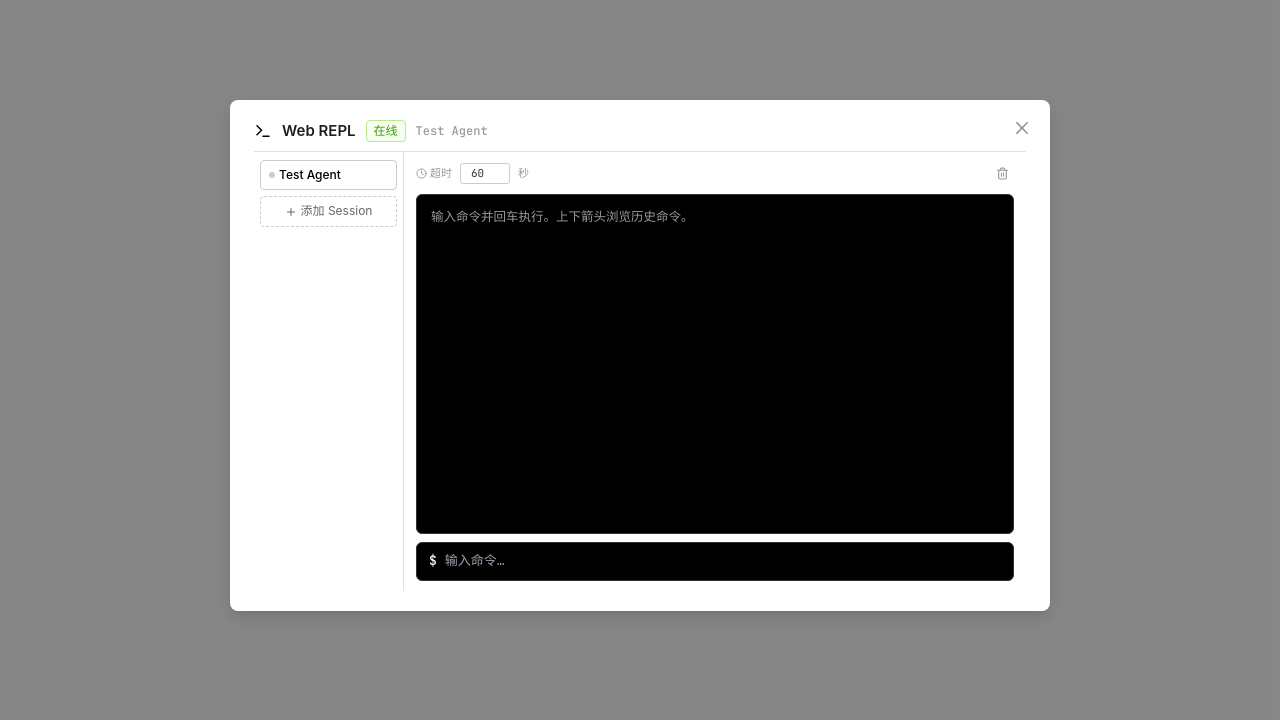
Test: ReplModal Tab 补全 › 切换 session 后关闭候选列表
Type "py" into the field with placeholder "输入命令…" at (723, 561), box x1=445 y1=551 x2=1001 y2=572
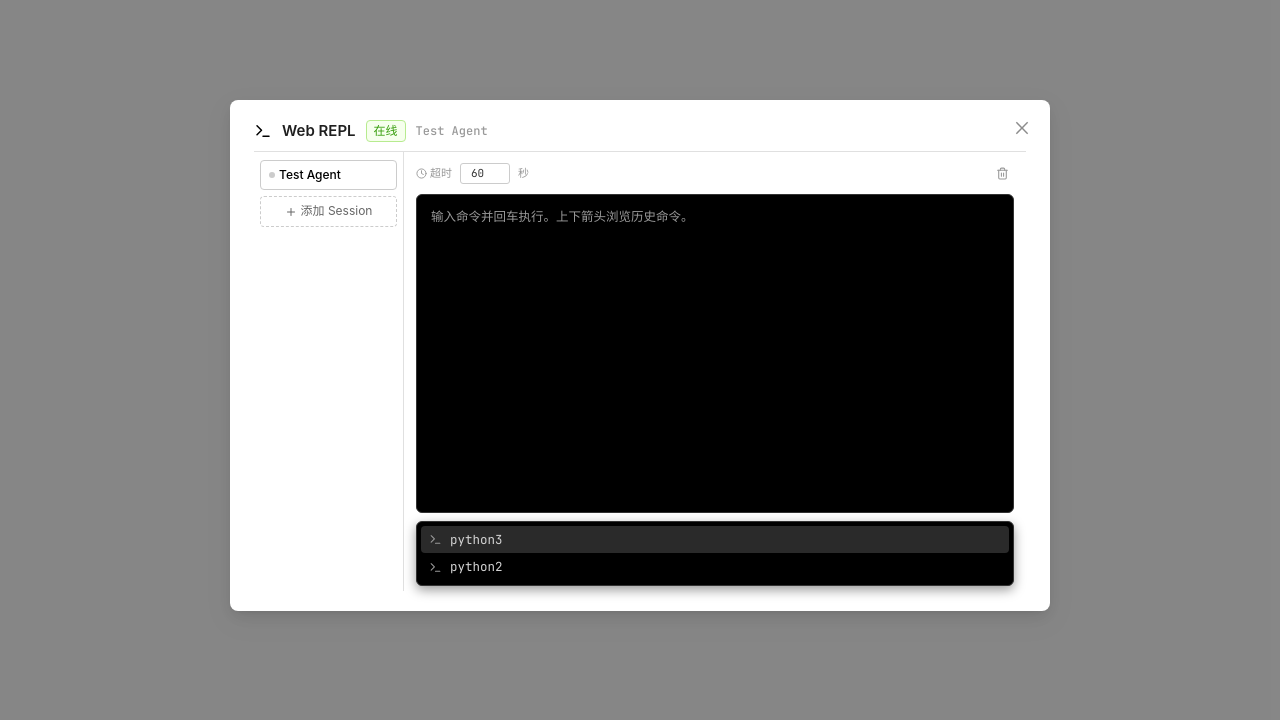
Now the text "python3" is shown, box x1=450 y1=530 x2=502 y2=549
// 点击"添加 Session"切换活动会话
Click the button "添加 Session" at (328, 212), box x1=260 y1=196 x2=397 y2=227
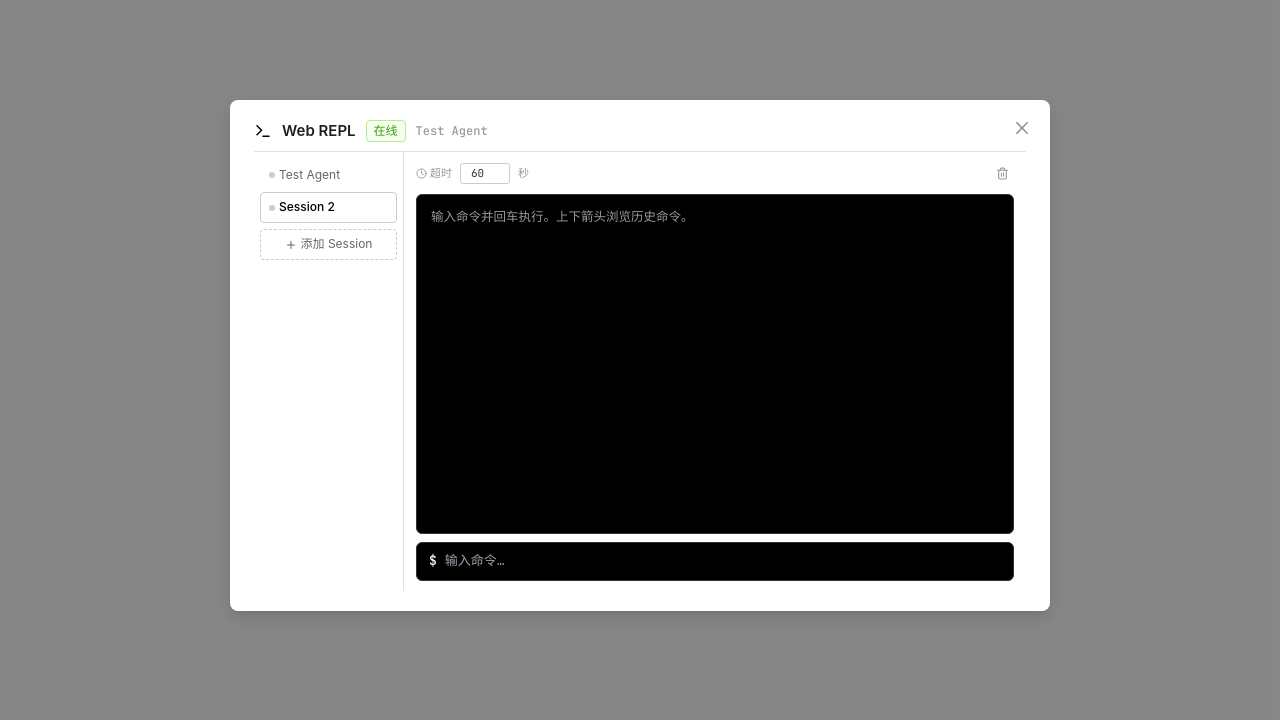
Now the option "python3" is gone
